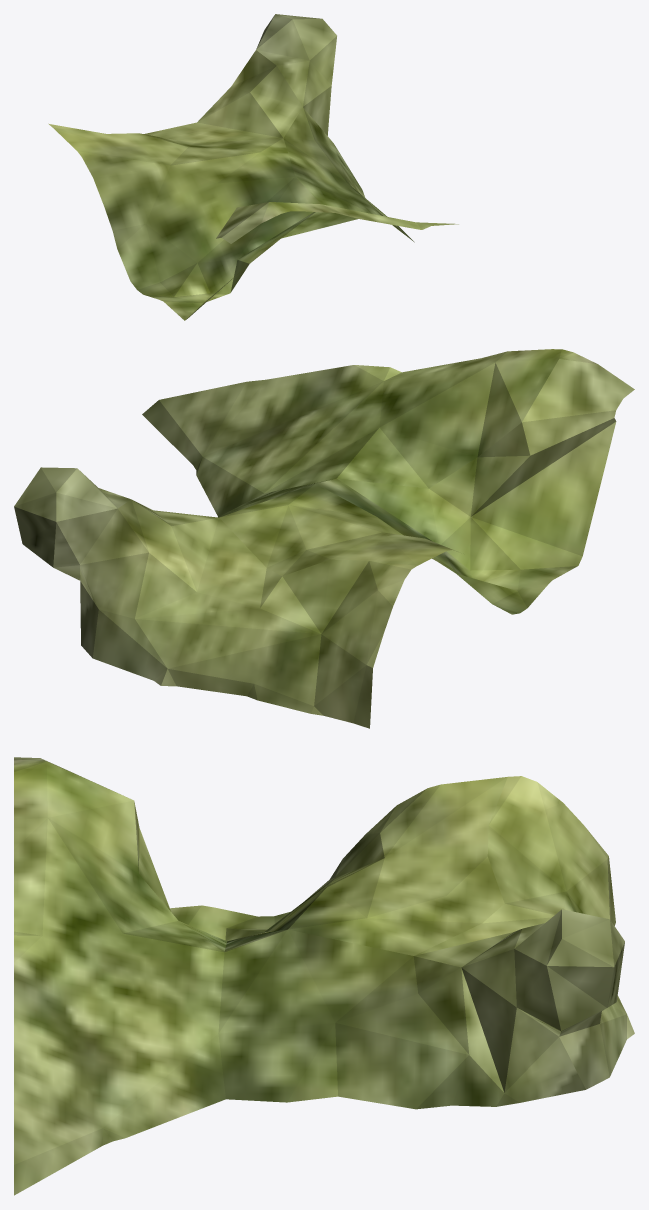
The picture shows the model from 3 angles, top to bottom: view 1: azimuth 30°, elevation 25°; view 2: azimuth 150°, elevation 25°; view 3: azimuth 270°, elevation 25°; orthographic projection. The views are drawn at different scales.
Bounding box in the file's own units: 1.04 × 0.347 × 1.
Materials: 1 (1 with a texture image).
